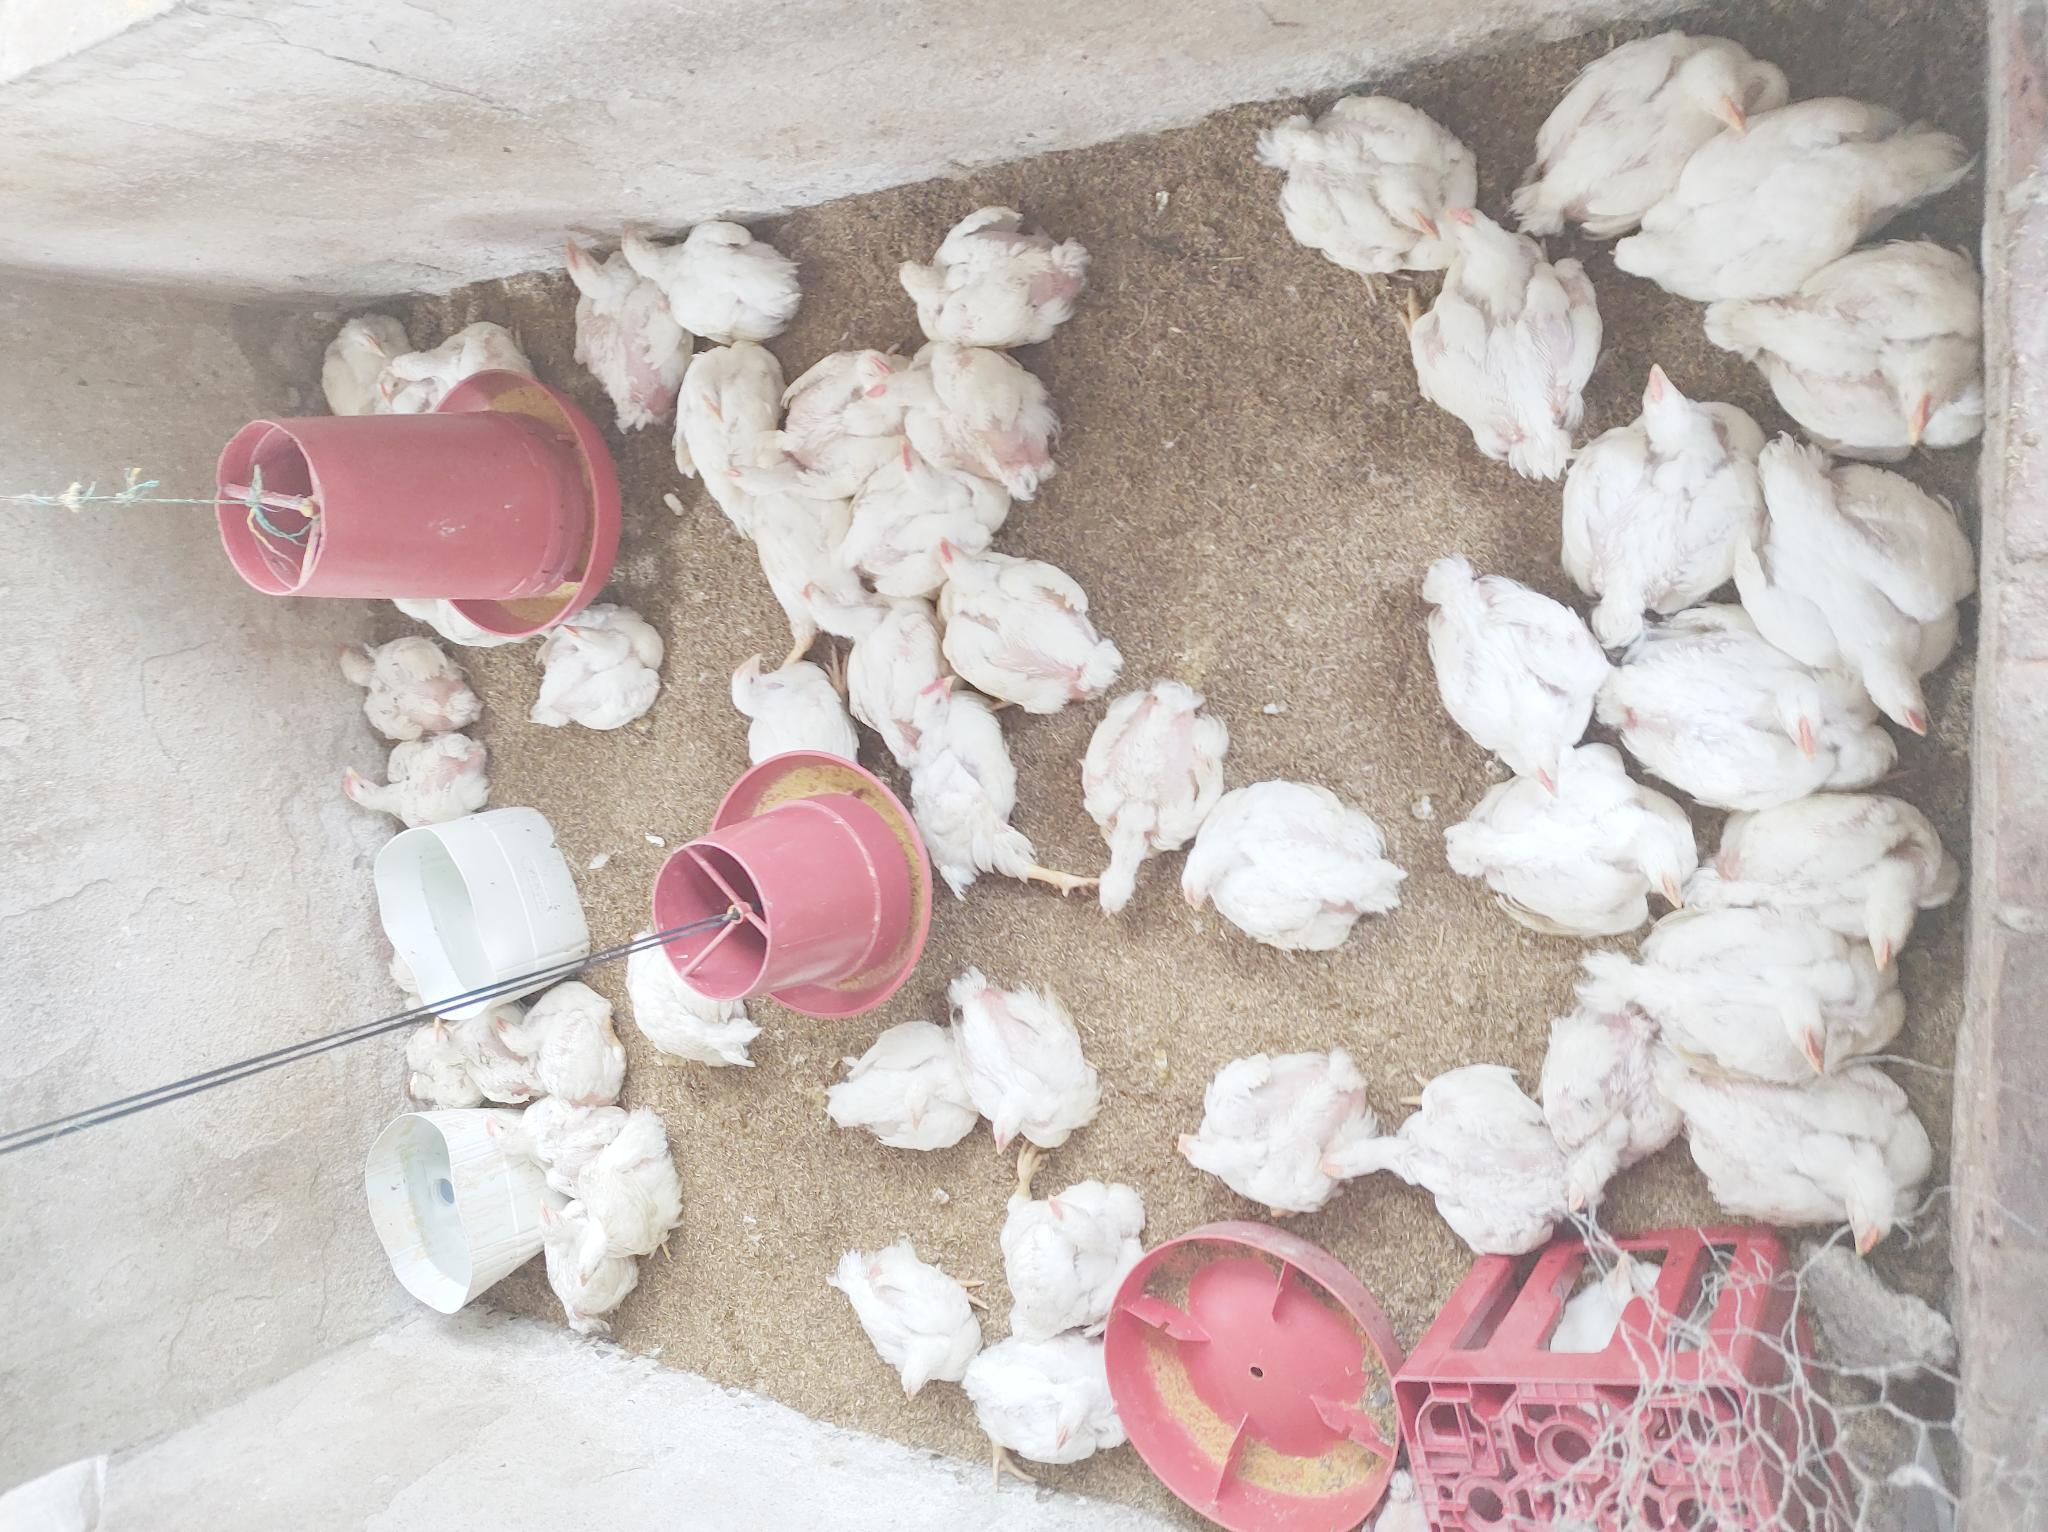Pollos: (1668, 433, 1985, 732), (1614, 89, 1956, 298), (1663, 1041, 1935, 1283), (1618, 586, 1902, 793), (1725, 233, 1982, 460), (1530, 356, 1760, 608), (1363, 1064, 1646, 1263), (1622, 877, 1903, 1077), (1691, 784, 1977, 977), (1401, 558, 1626, 800), (1530, 19, 1779, 237), (1392, 200, 1599, 455), (1441, 740, 1710, 920), (1170, 772, 1409, 966), (891, 673, 1071, 916), (1068, 655, 1231, 920), (1155, 1041, 1392, 1210), (1273, 92, 1477, 272), (920, 534, 1120, 708), (933, 977, 1117, 1157), (885, 200, 1084, 354), (869, 349, 1076, 492), (553, 229, 693, 426), (951, 1321, 1129, 1476), (816, 1242, 980, 1410), (832, 439, 1005, 597), (611, 209, 809, 344), (790, 571, 951, 735), (706, 446, 856, 608), (980, 1184, 1144, 1332), (819, 1023, 991, 1152), (619, 922, 759, 1075), (561, 1098, 684, 1255), (484, 982, 631, 1109), (521, 608, 669, 732), (664, 341, 793, 481), (722, 644, 853, 777), (336, 721, 492, 830), (328, 634, 487, 739), (528, 1192, 647, 1329), (771, 349, 912, 460), (389, 320, 537, 397), (314, 306, 410, 414), (487, 1093, 598, 1186), (394, 1019, 520, 1093)
